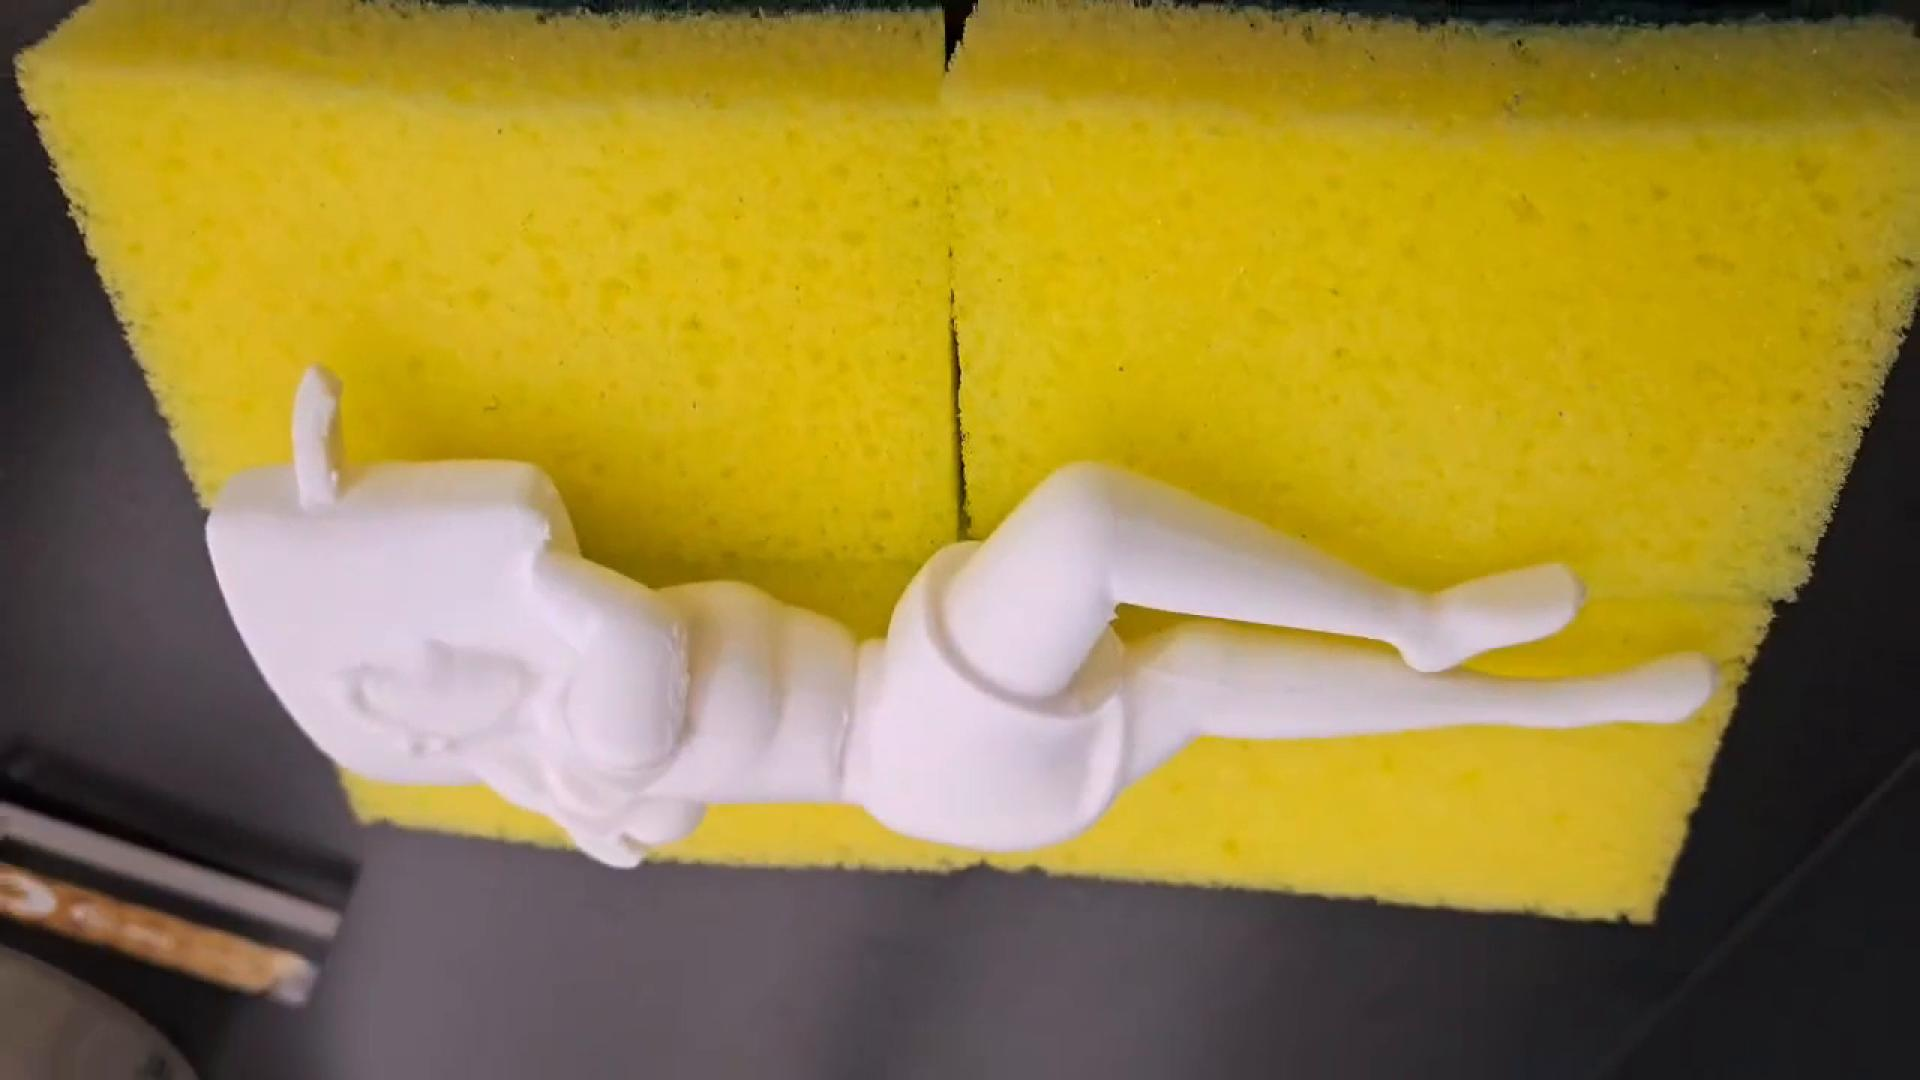Good-style: (198, 353, 1721, 872)
